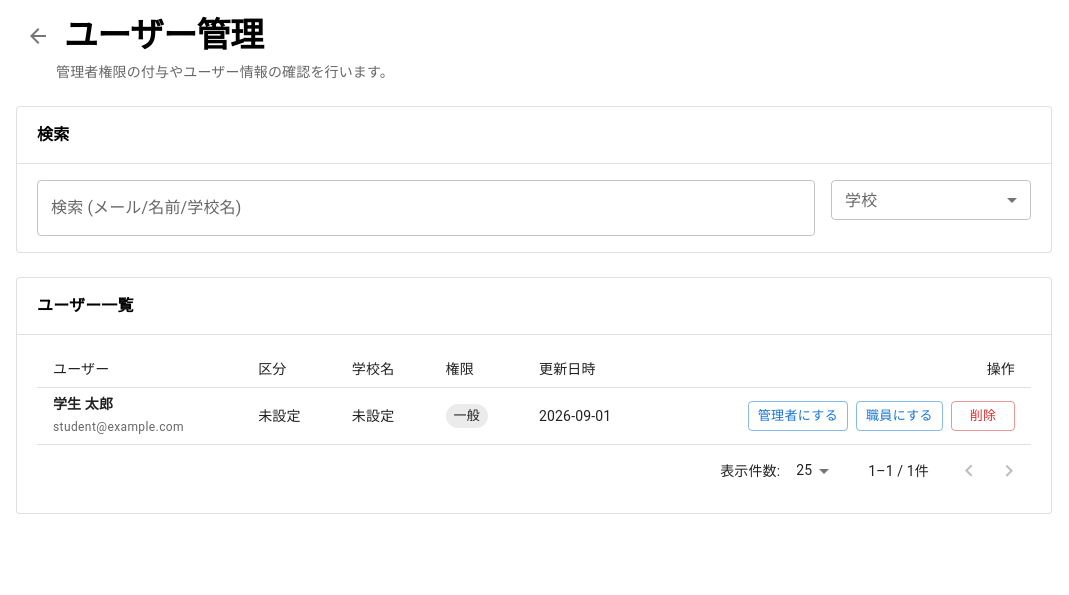
Scenario: 管理ユーザー画面 通信失敗時の挙動 (#1066) › サーバーがエラー文言を返した場合はその文言を表示する
Click the button "管理者にする" at (798, 416), box [748,401,848,431]
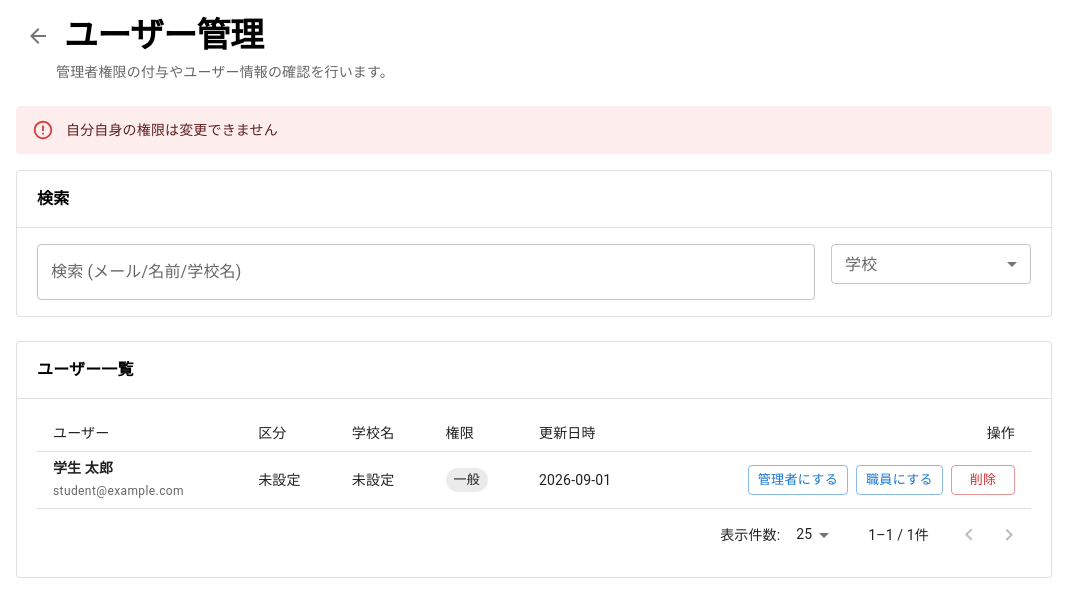
Expected: the button "管理者にする" is enabled, [748,465,848,495]
Expected: the text "自分自身の権限は変更できません" is shown, [66,122,278,138]
